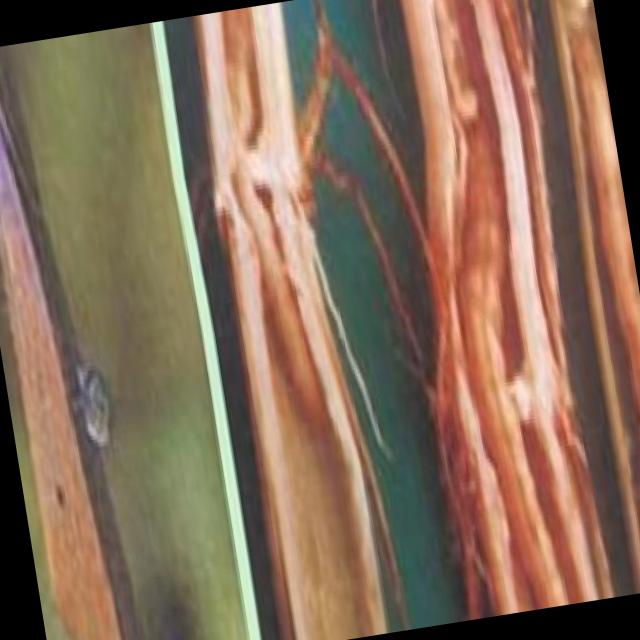stem-borer: (0, 42, 127, 640)
